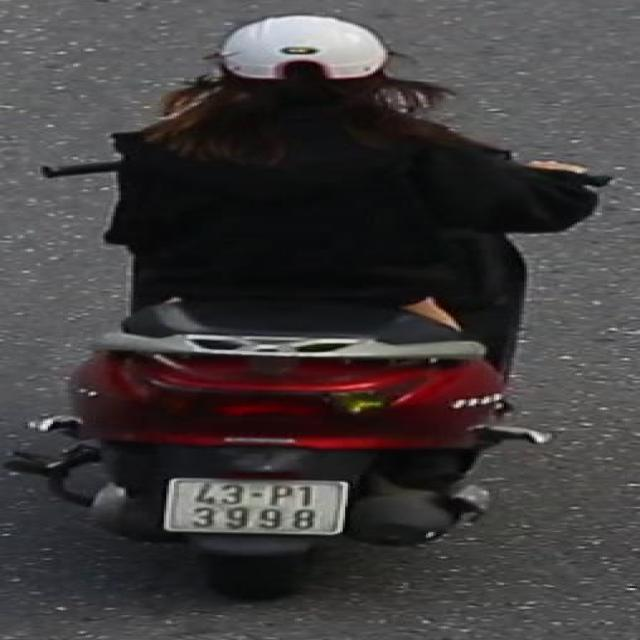LP: (151, 471, 363, 541)
helmet: (202, 12, 400, 110)
